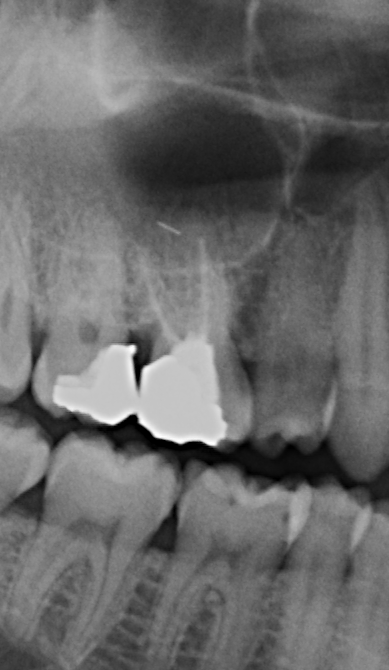fracture: (152, 218, 184, 240)
